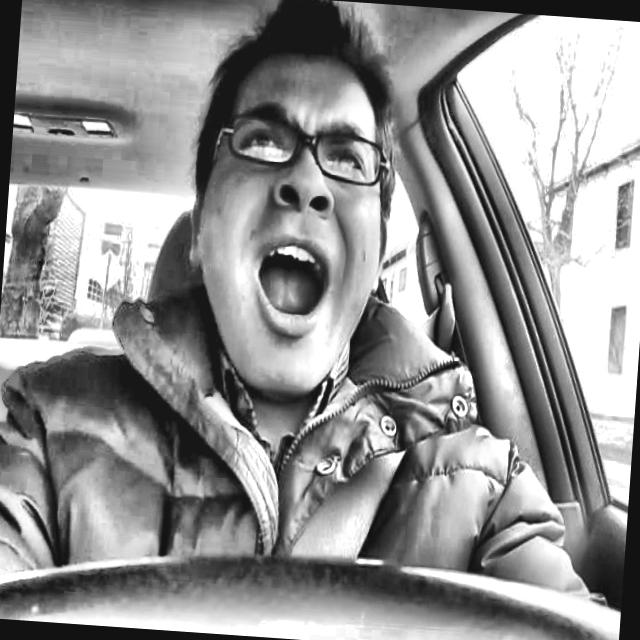open_eyes: (318, 135, 380, 187), (233, 115, 293, 166)
open_mouth: (241, 228, 350, 355)
